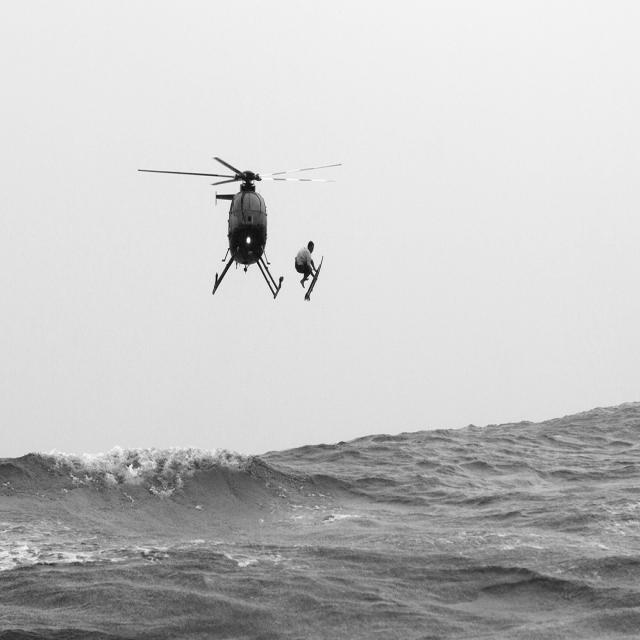helicopter: (136, 140, 351, 316)
